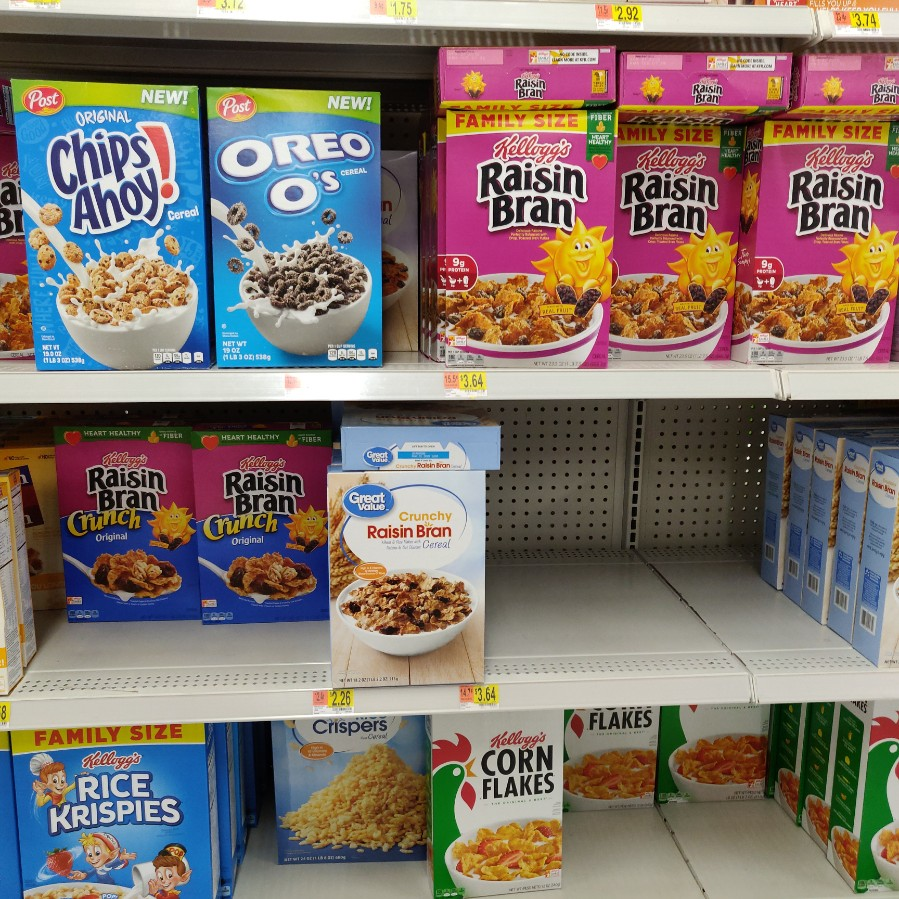Chips Ahoys-565717529: (12, 82, 207, 363)
Oreo-563424384: (204, 85, 382, 365)
